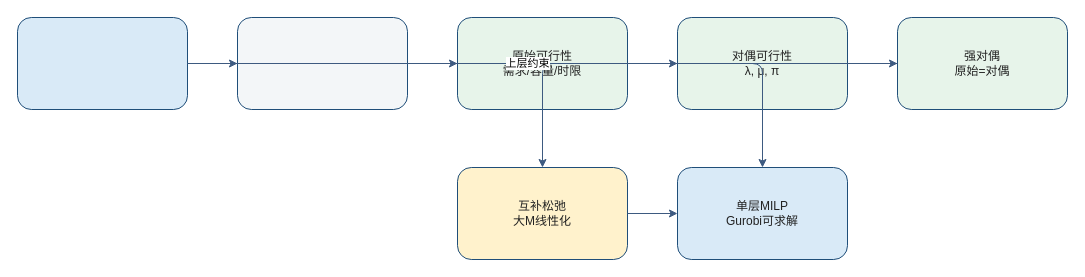
The diagram is 1085 pixels wide and 277 high, and some of its shapes have lost their labels. The centre of each missing label's shape, as x and y in pixels:
"上层决策 z: 选址与容量" goes at (x=102, y=63).
"下层LP x: 需求分配" goes at (x=322, y=63).
